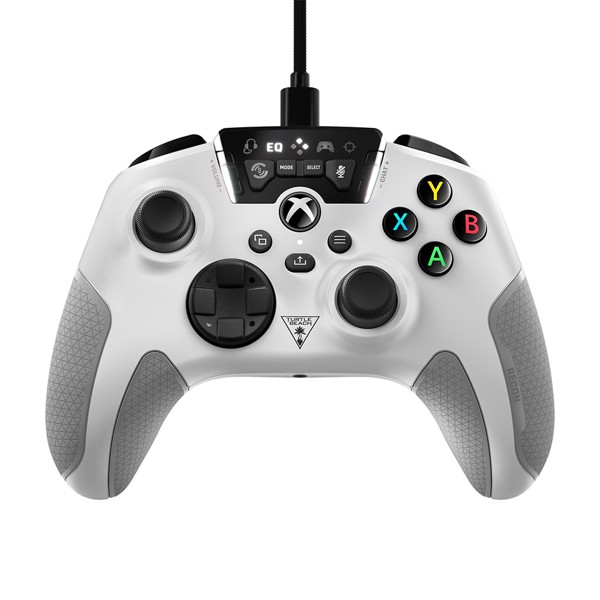controller: (44, 127, 555, 499)
